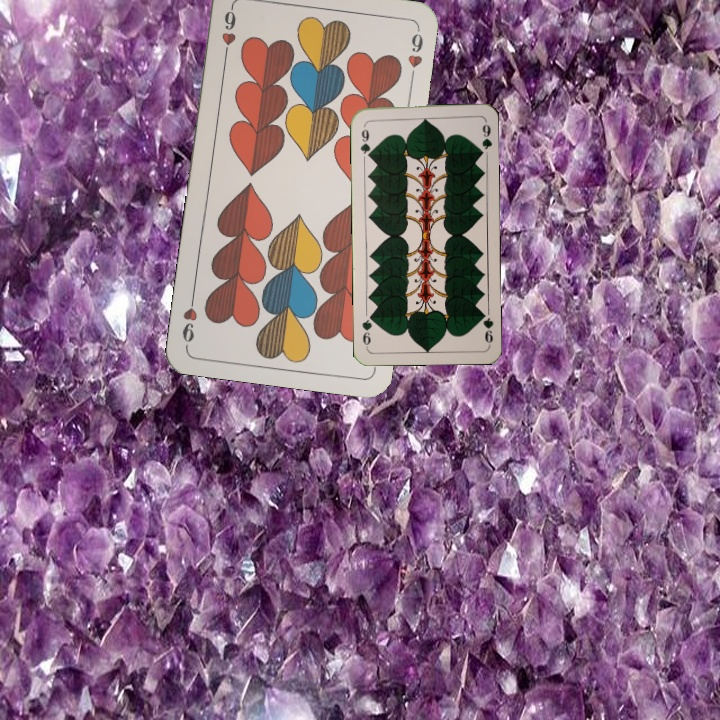G9: (477, 307, 496, 348), (356, 120, 373, 161)
H9: (217, 2, 239, 61)
